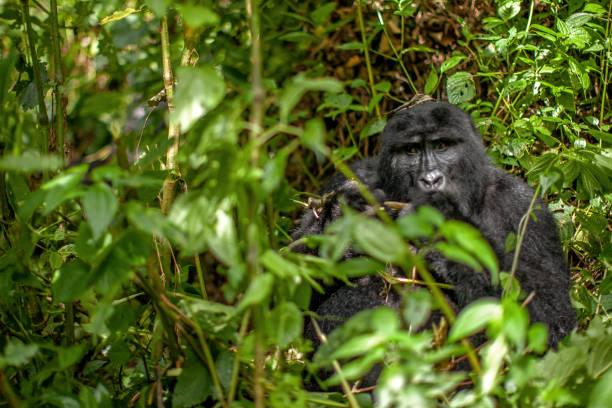goriile_montagne: (301, 84, 561, 324)
